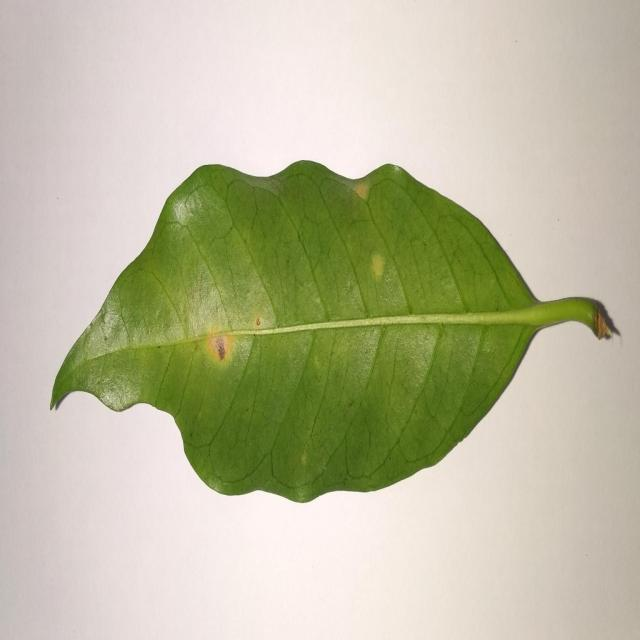Enfermedad-Roya: (49, 159, 619, 507)
